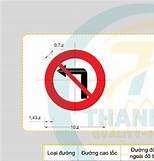No_turn_left: (43, 49, 107, 113)
